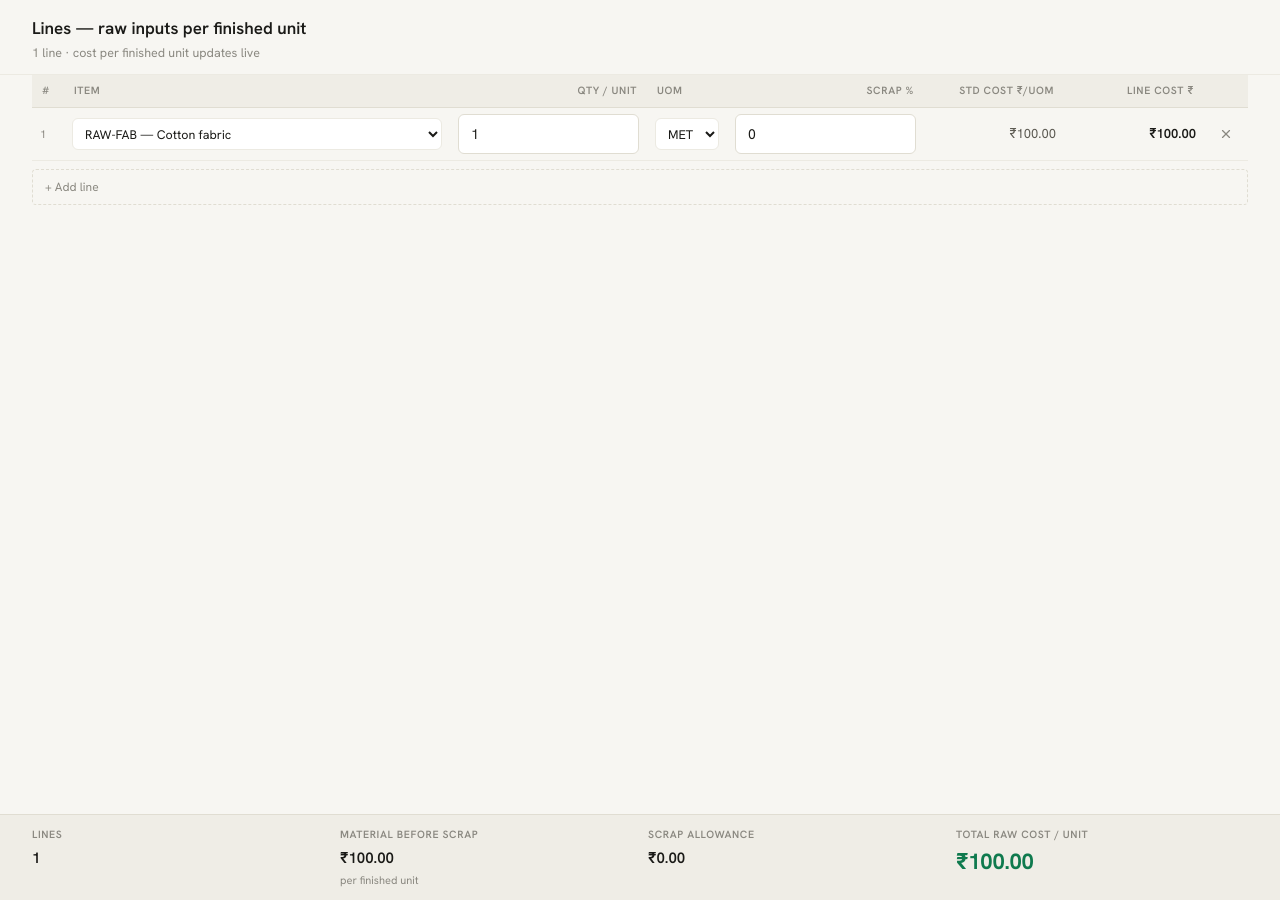
BomLinesEditor › rollup hero reacts live to qty edits
Expected: the element with test id "rollup-total" shows "100", 956,847 -> 1034,876
Replace the text in the number field named "qty per unit for line 1" with "5" at (548, 134), box 459,124 -> 638,144
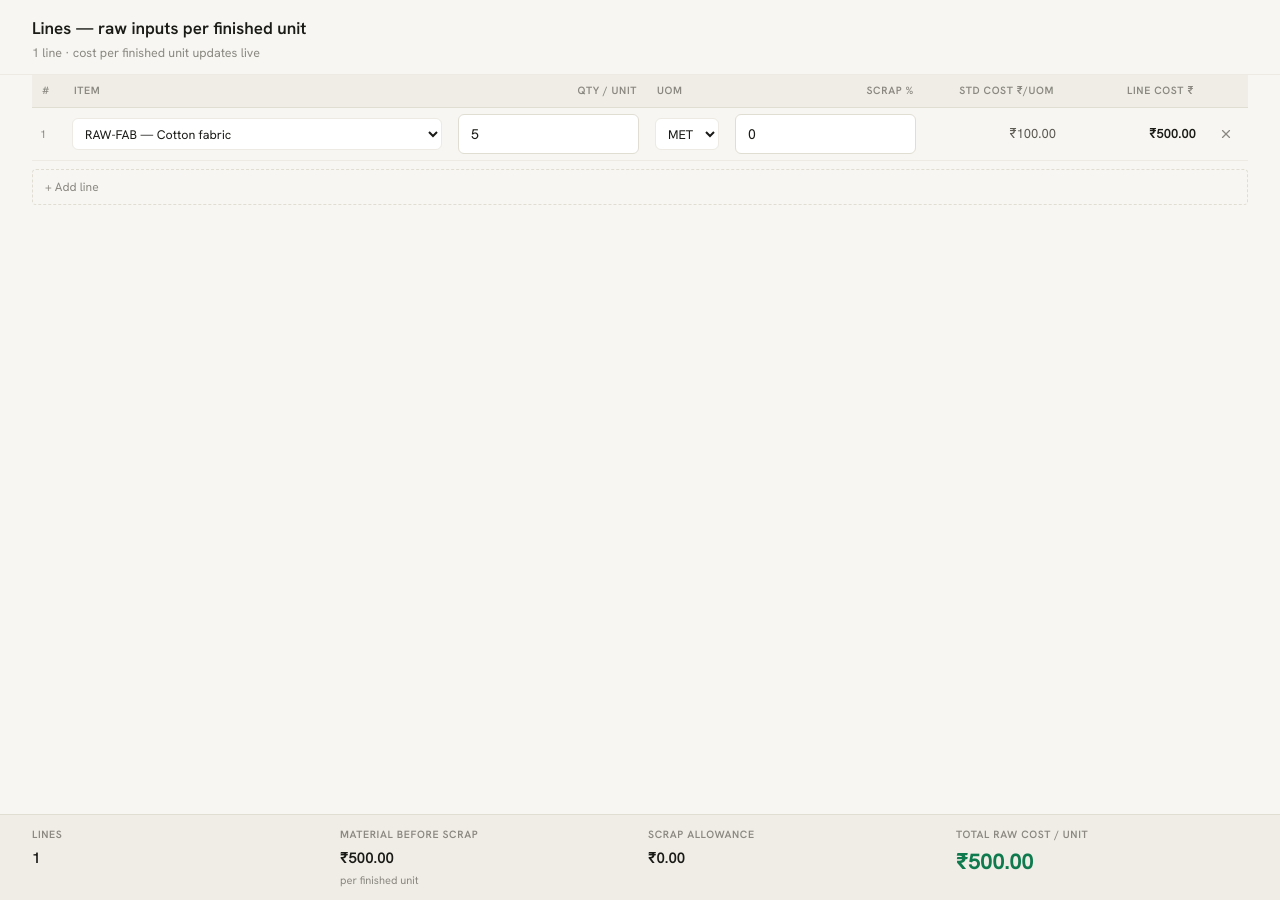
Now the element with test id "rollup-total" shows "500", box 956,847 -> 1034,876
